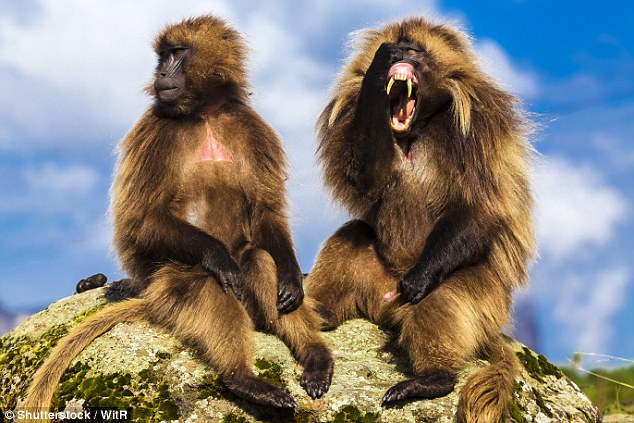Gelada: (113, 9, 325, 392), (325, 7, 531, 374)
